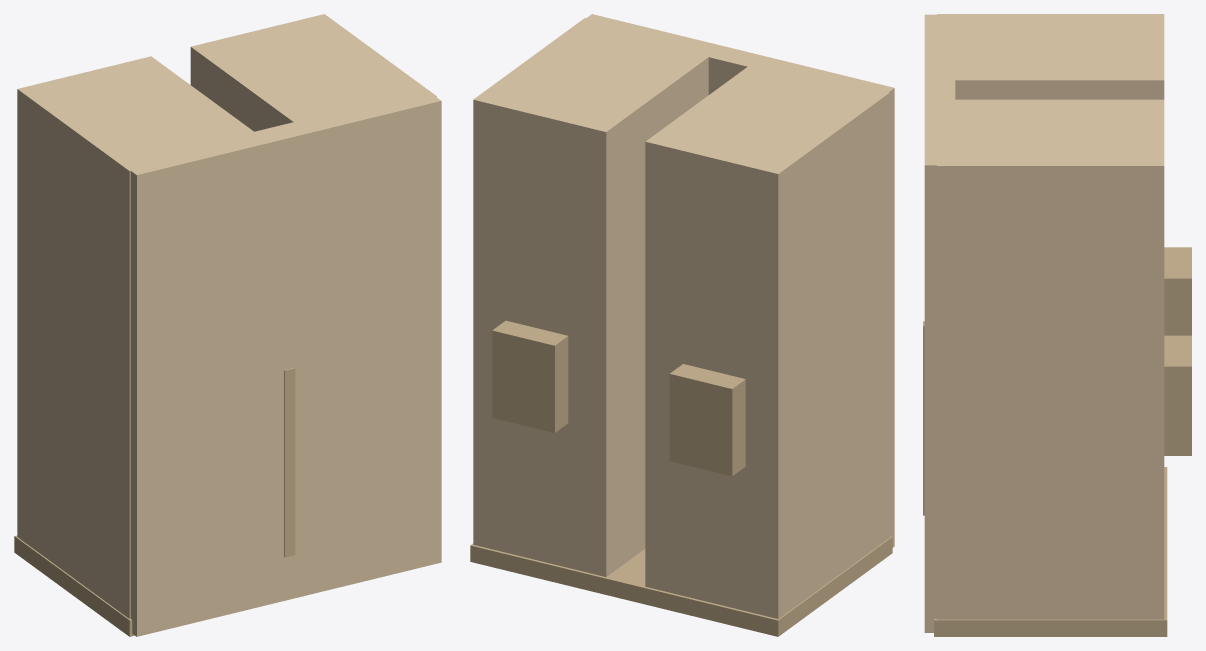
File: detetive_saia.glb
The picture shows the model from 3 angles, left to right: view 1: azimuth 30°, elevation 25°; view 2: azimuth 150°, elevation 25°; view 3: azimuth 270°, elevation 25°; orthographic projection.
Visible parts, largest first — view 1: detetive_saia; view 2: detetive_saia; view 3: detetive_saia.
Boxes of the visible parts, bbox=[...] form: detetive_saia: bbox=[14, 14, 441, 636]; detetive_saia: bbox=[470, 14, 894, 636]; detetive_saia: bbox=[923, 14, 1191, 636].
Size of the model in its own units: 0.59 by 0.845 by 0.4375.
